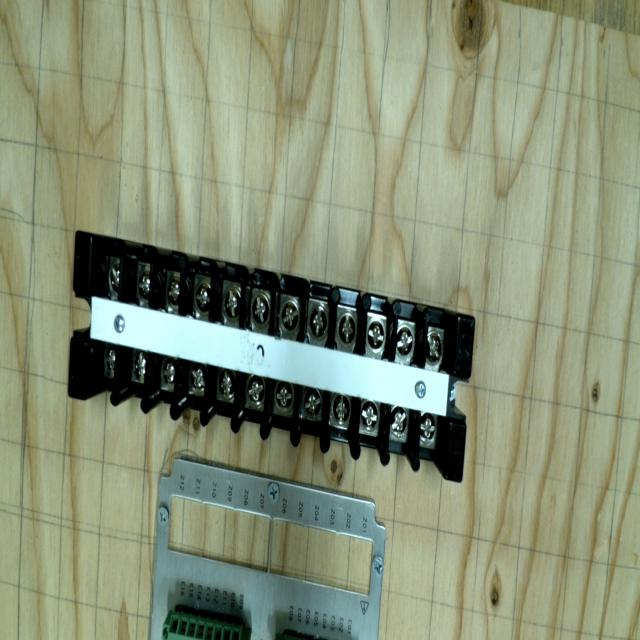Phillips_Block: (42, 230, 497, 482)
